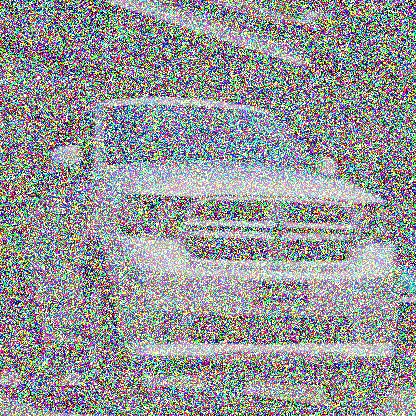Vehicle: (20, 97, 400, 414)
